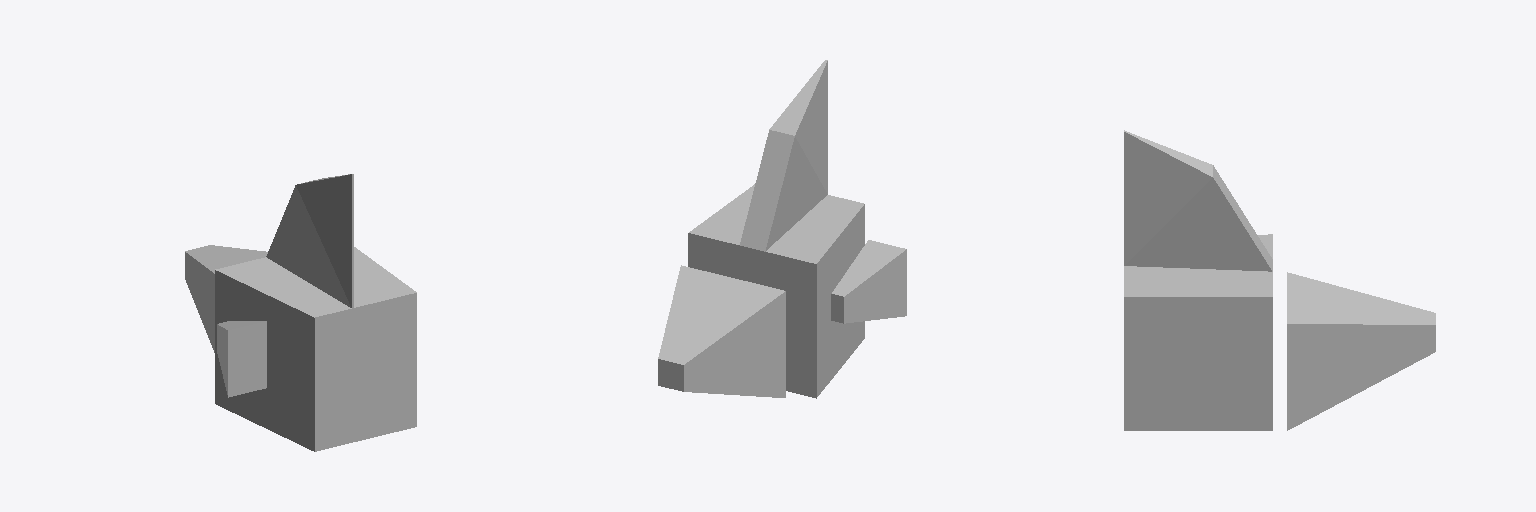
File: thing1-z-x.obj
3 renders of one model, left to right at view 1: azimuth 30°, elevation 25°; view 2: azimuth 150°, elevation 25°; view 3: azimuth 270°, elevation 25°, orthographic.
Parts seen in each view (by area): view 1: Cube; view 2: Cube; view 3: Cube.
Boxes of the visible parts, x1,y1,x2,y2 form: Cube: [185, 174, 416, 451]; Cube: [658, 60, 906, 398]; Cube: [1124, 130, 1435, 430].
Bounding box in the file's own units: 0.65 × 1 × 1.05.